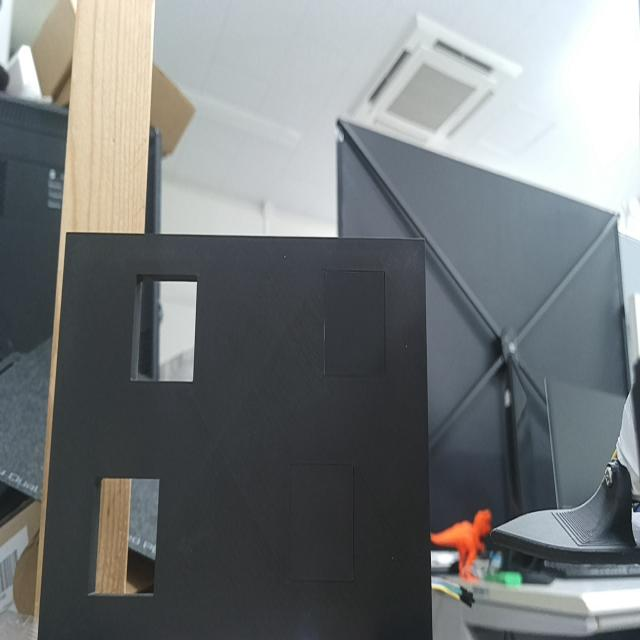Obstacle: (95, 476, 162, 596), (131, 275, 199, 381)
Wall: (38, 232, 432, 639)
